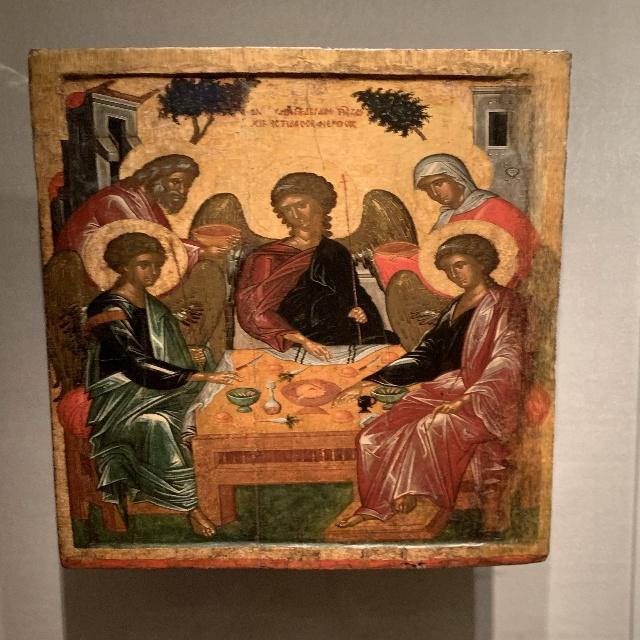angel: (36, 219, 236, 527), (388, 223, 540, 525), (195, 157, 418, 344)
aura: (242, 154, 371, 233), (81, 219, 201, 298), (417, 218, 529, 295), (395, 138, 508, 211), (119, 137, 218, 215)
bread: (297, 383, 327, 397), (332, 409, 356, 424), (340, 367, 362, 376), (380, 354, 401, 362), (215, 412, 233, 421), (269, 363, 286, 372)
saint: (44, 139, 215, 221), (396, 141, 563, 223)
wine: (262, 379, 283, 417)
wing: (42, 249, 95, 385), (192, 197, 284, 263), (373, 272, 452, 347), (343, 187, 421, 256), (164, 270, 225, 356)
